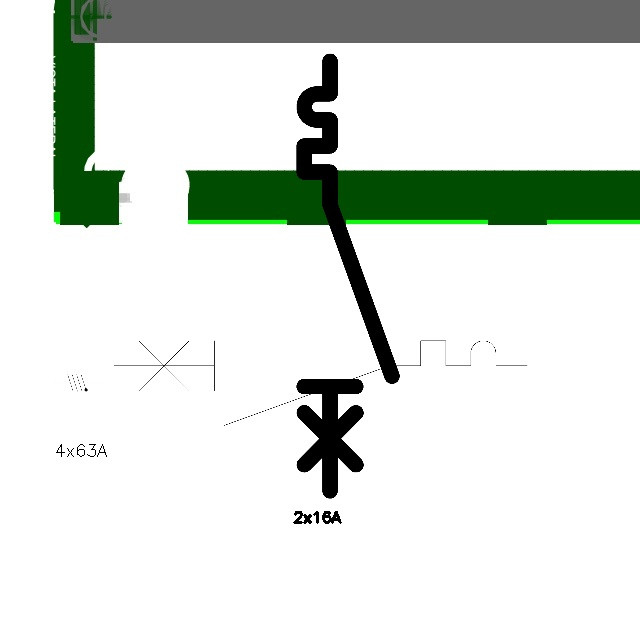interruptor_termomagnetico: (293, 50, 403, 502), (103, 330, 538, 436)
